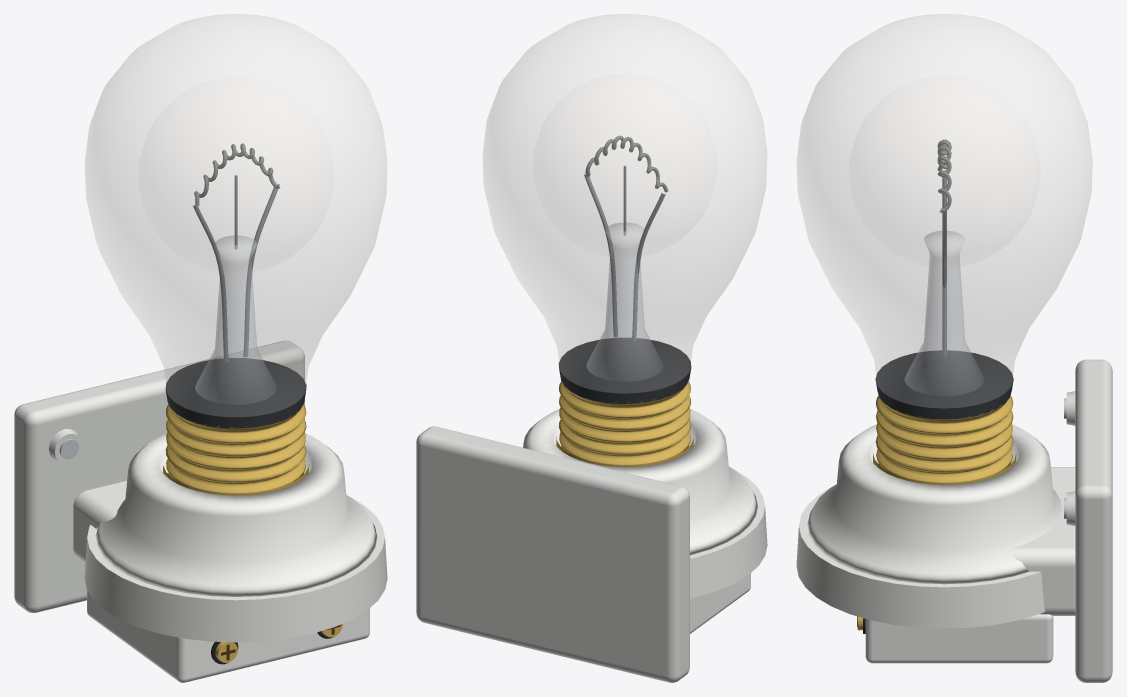
File: philips-incandescent-e27.glb
The picture shows the model from 3 angles, left to right: view 1: azimuth 30°, elevation 25°; view 2: azimuth 150°, elevation 25°; view 3: azimuth 270°, elevation 25°; orthographic projection. The views are drawn at different scales.
Visible parts, largest first — view 1: lighting_bulb_glass, lighting_socket_base, lighting_lampIncandescentE27, lighting_e27_thread, lamp_filament, lighting_socket_label, lighting_terminal_label_L; view 2: lighting_bulb_glass, lighting_socket_base, lighting_lampIncandescentE27, lighting_e27_thread, lamp_filament; view 3: lighting_bulb_glass, lighting_socket_base, lighting_lampIncandescentE27, lighting_e27_thread, lamp_filament.
Boxes of the visible parts, x1,y1,x2,y2 form: lighting_bulb_glass: [85, 14, 386, 416]; lighting_socket_base: [14, 340, 387, 682]; lighting_lampIncandescentE27: [165, 175, 306, 428]; lighting_e27_thread: [165, 404, 306, 493]; lamp_filament: [194, 143, 280, 205]; lighting_socket_label: [244, 634, 309, 660]; lighting_terminal_label_L: [184, 642, 207, 670]; lighting_bulb_glass: [483, 14, 766, 392]; lighting_socket_base: [416, 409, 767, 682]; lighting_lampIncandescentE27: [558, 165, 691, 403]; lighting_e27_thread: [558, 381, 691, 465]; lamp_filament: [585, 135, 668, 192]; lighting_bulb_glass: [797, 14, 1092, 407]; lighting_socket_base: [796, 359, 1112, 682]; lighting_lampIncandescentE27: [875, 170, 1013, 419]; lighting_e27_thread: [875, 396, 1013, 482]; lamp_filament: [937, 139, 951, 212].
Bounding box in the file's own units: 0.064 × 0.132 × 0.064.
